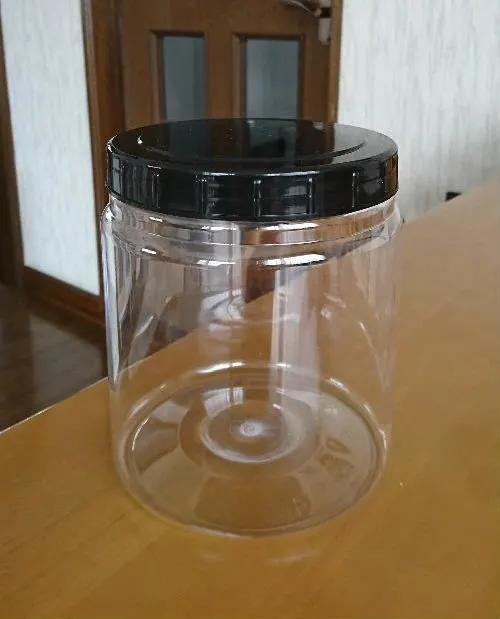plastic: (93, 111, 402, 538)
